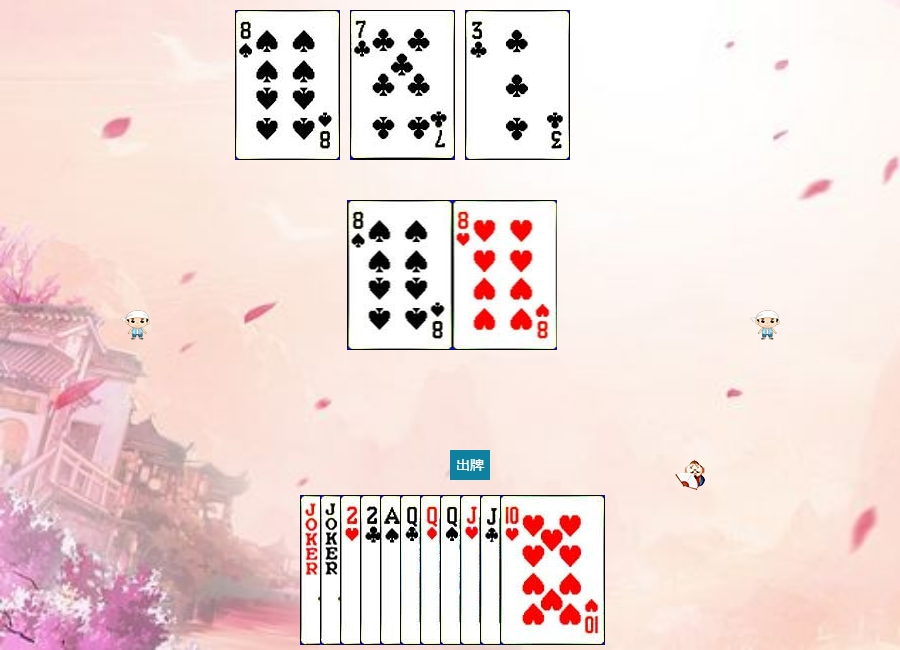10~3: (500, 495, 605, 645)
11~2: (480, 495, 585, 645)
11~3: (460, 495, 565, 645)
12~1: (420, 495, 525, 645)
12~2: (400, 495, 505, 645)
12~4: (440, 495, 545, 645)
14~4: (380, 495, 485, 645)
15~2: (360, 495, 465, 645)
15~3: (340, 495, 445, 645)
17~3: (320, 495, 425, 645)
18~4: (300, 495, 405, 645)
3~2: (465, 10, 570, 160)
7~2: (350, 10, 455, 160)
8~3: (453, 200, 558, 350)
8~4: (235, 10, 340, 160), (348, 200, 453, 350)
